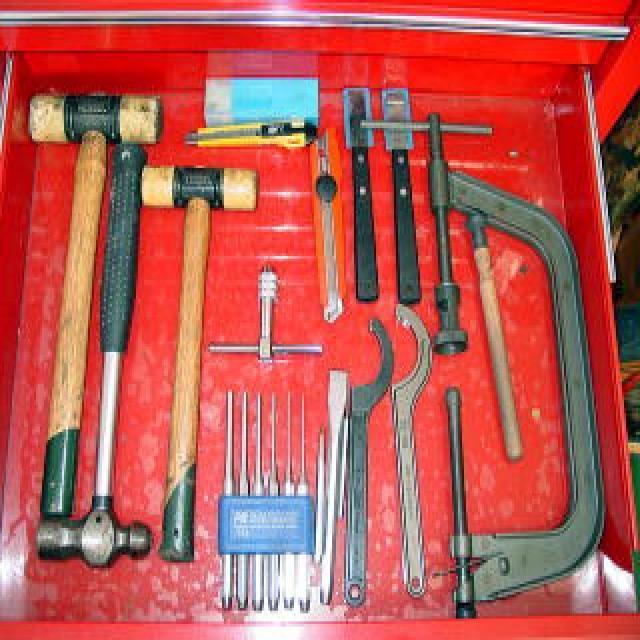hammer: (6, 60, 155, 522), (21, 122, 163, 590), (123, 151, 267, 570)
